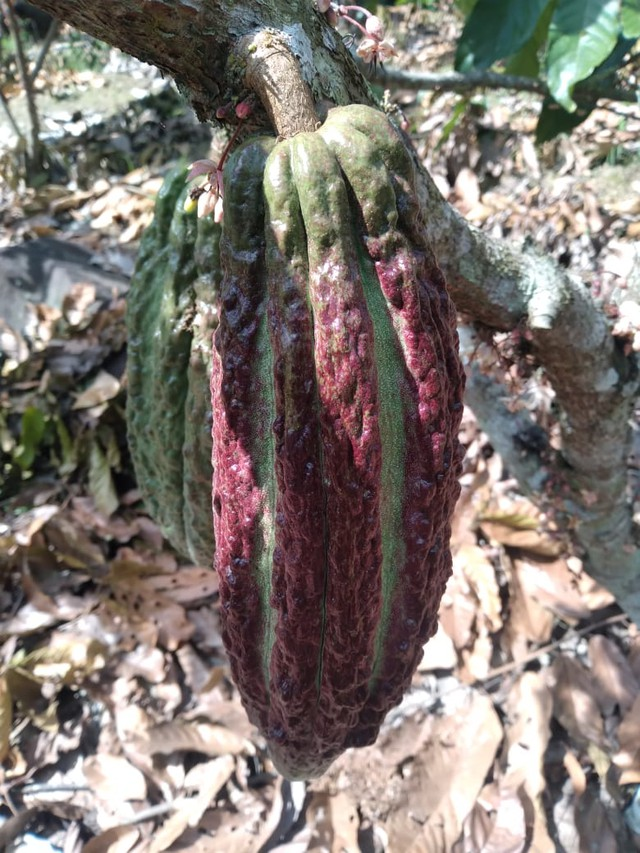Health: (182, 89, 482, 798)
